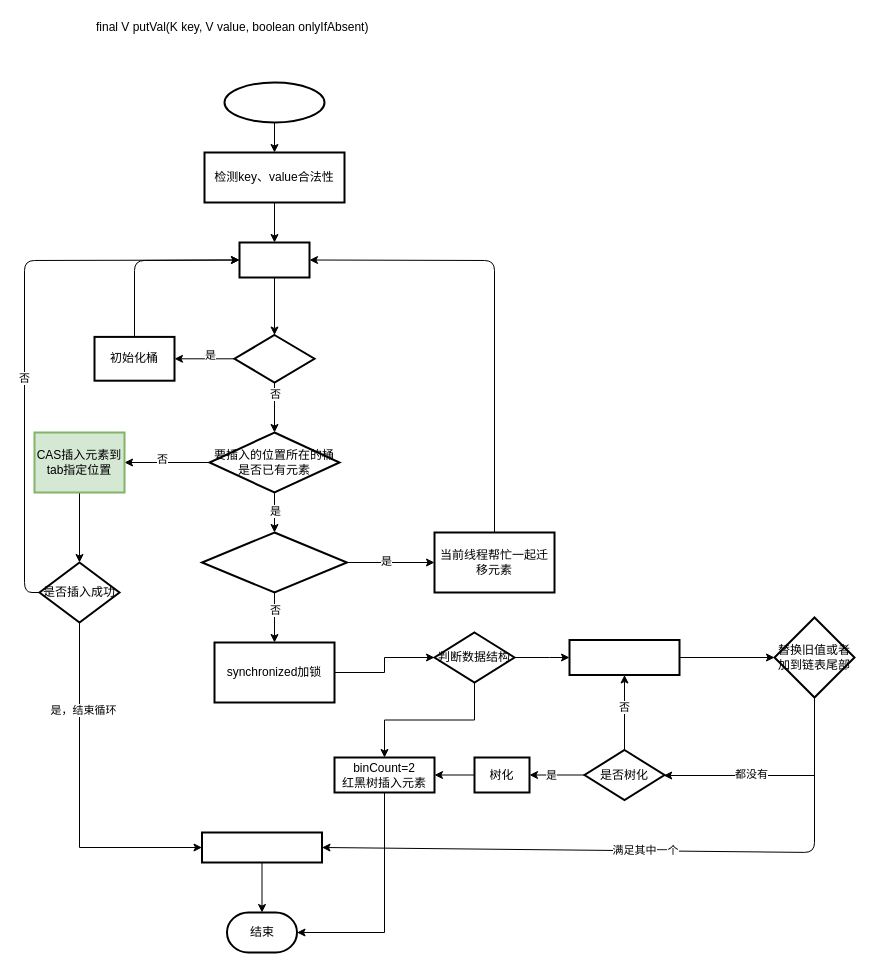
The diagram is 873 pixels wide and 970 high, and some of its shapes have lost their labels. The shapes that lost their labels are listed below. From the top down, each one's centre as x and y in pixels, then its label:
At (274,102): "putVal".
At (274,259): "取table，进入循环".
At (274,358): "table是否为空".
At (274,562): "要插入的元素所在的桶的第一个元素hash是否为MOVED".
At (624,657): "遍历链表，每次binCount+1".
At (261,847): "++binCount 检查是否需要扩容".
